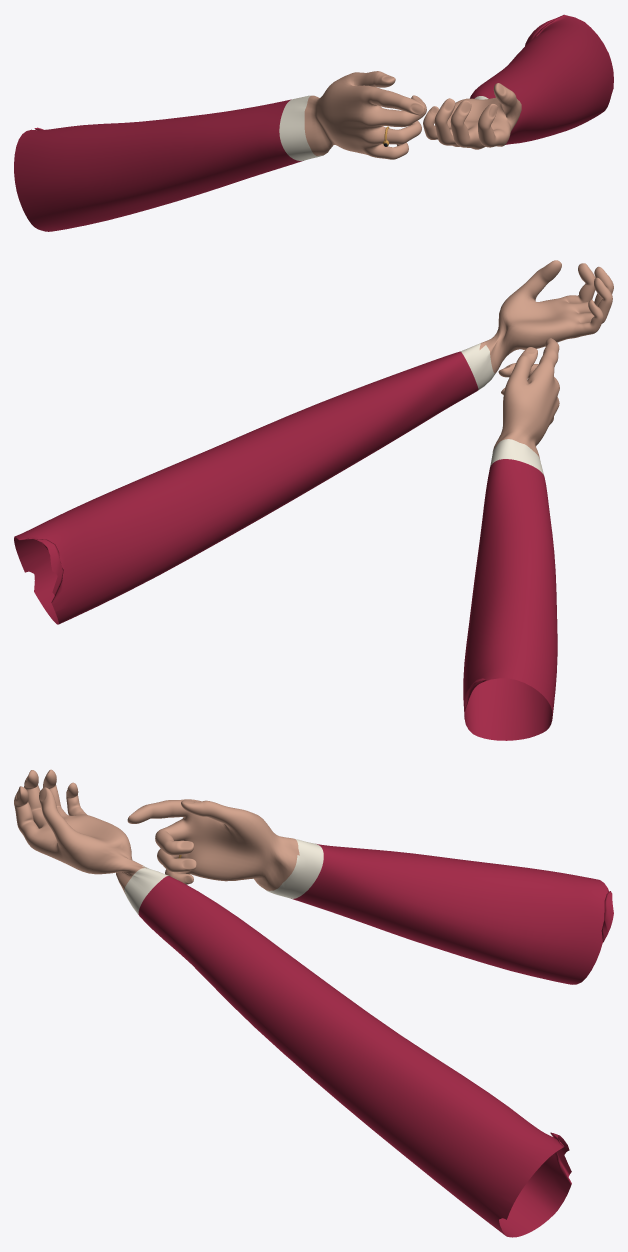
The model's file is fps_hands_cs2.glb.
The picture shows the model from 3 angles, top to bottom: view 1: azimuth 30°, elevation 25°; view 2: azimuth 150°, elevation 25°; view 3: azimuth 270°, elevation 25°; orthographic projection. The views are drawn at different scales.
Visible parts, largest first — view 1: Right, Left; view 2: Left, Right; view 3: Left, Right.
Part boxes in pixels (box(x1,y1,x2,y2)): Right: box(14, 71, 426, 231); Left: box(423, 14, 613, 149); Left: box(14, 260, 613, 624); Right: box(463, 338, 559, 740); Left: box(14, 769, 571, 1237); Right: box(127, 799, 613, 984).
Bounding box in the file's own units: 0.6813 × 0.315 × 0.5842.
